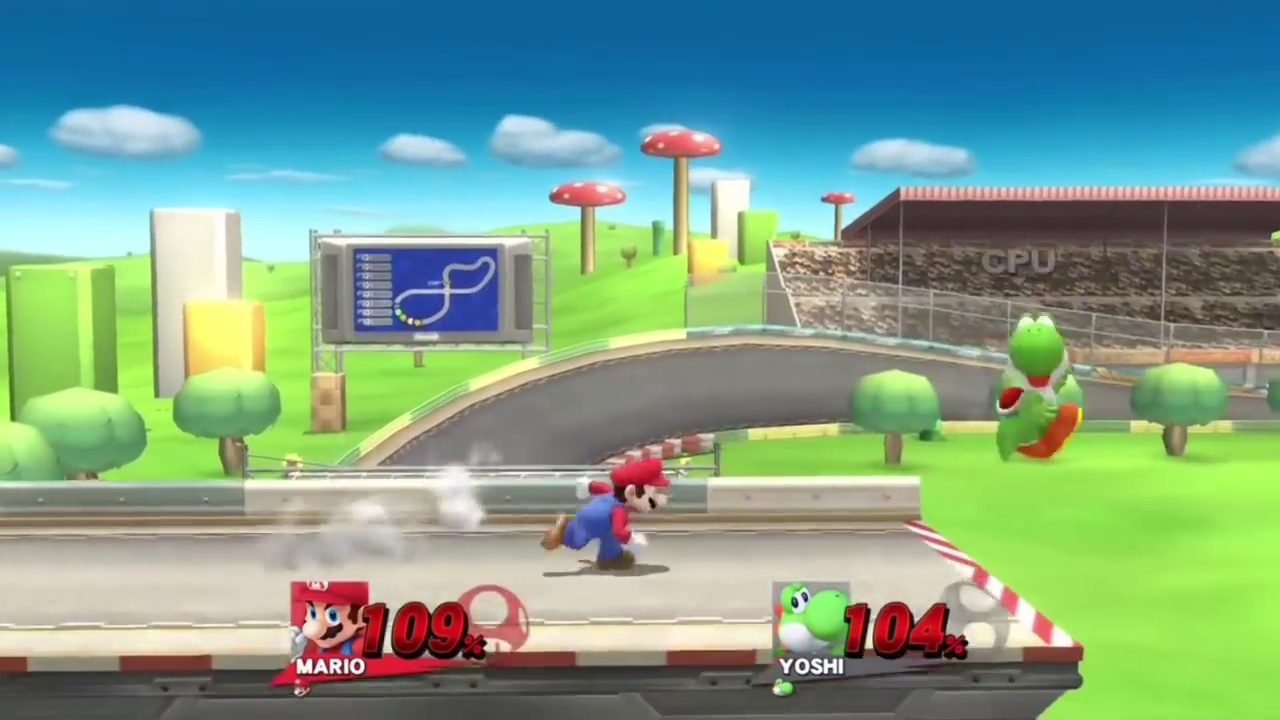Mario: (541, 459, 670, 569)
